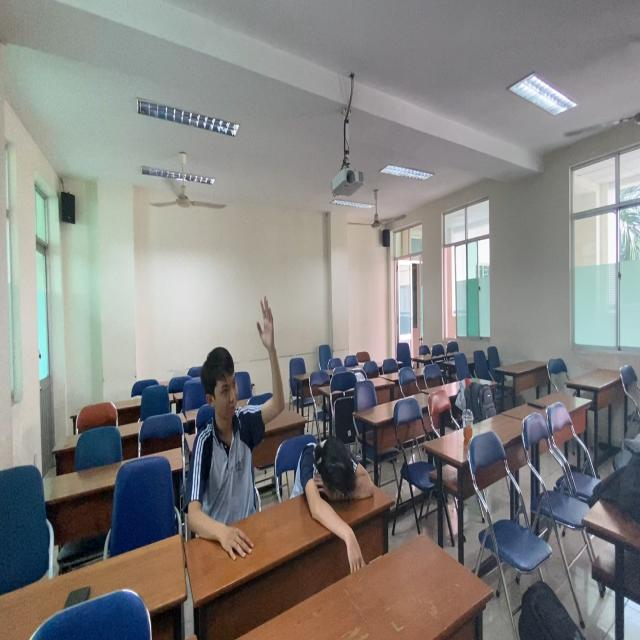raise_hand: (185, 295, 291, 567)
sleep: (290, 434, 381, 541)
